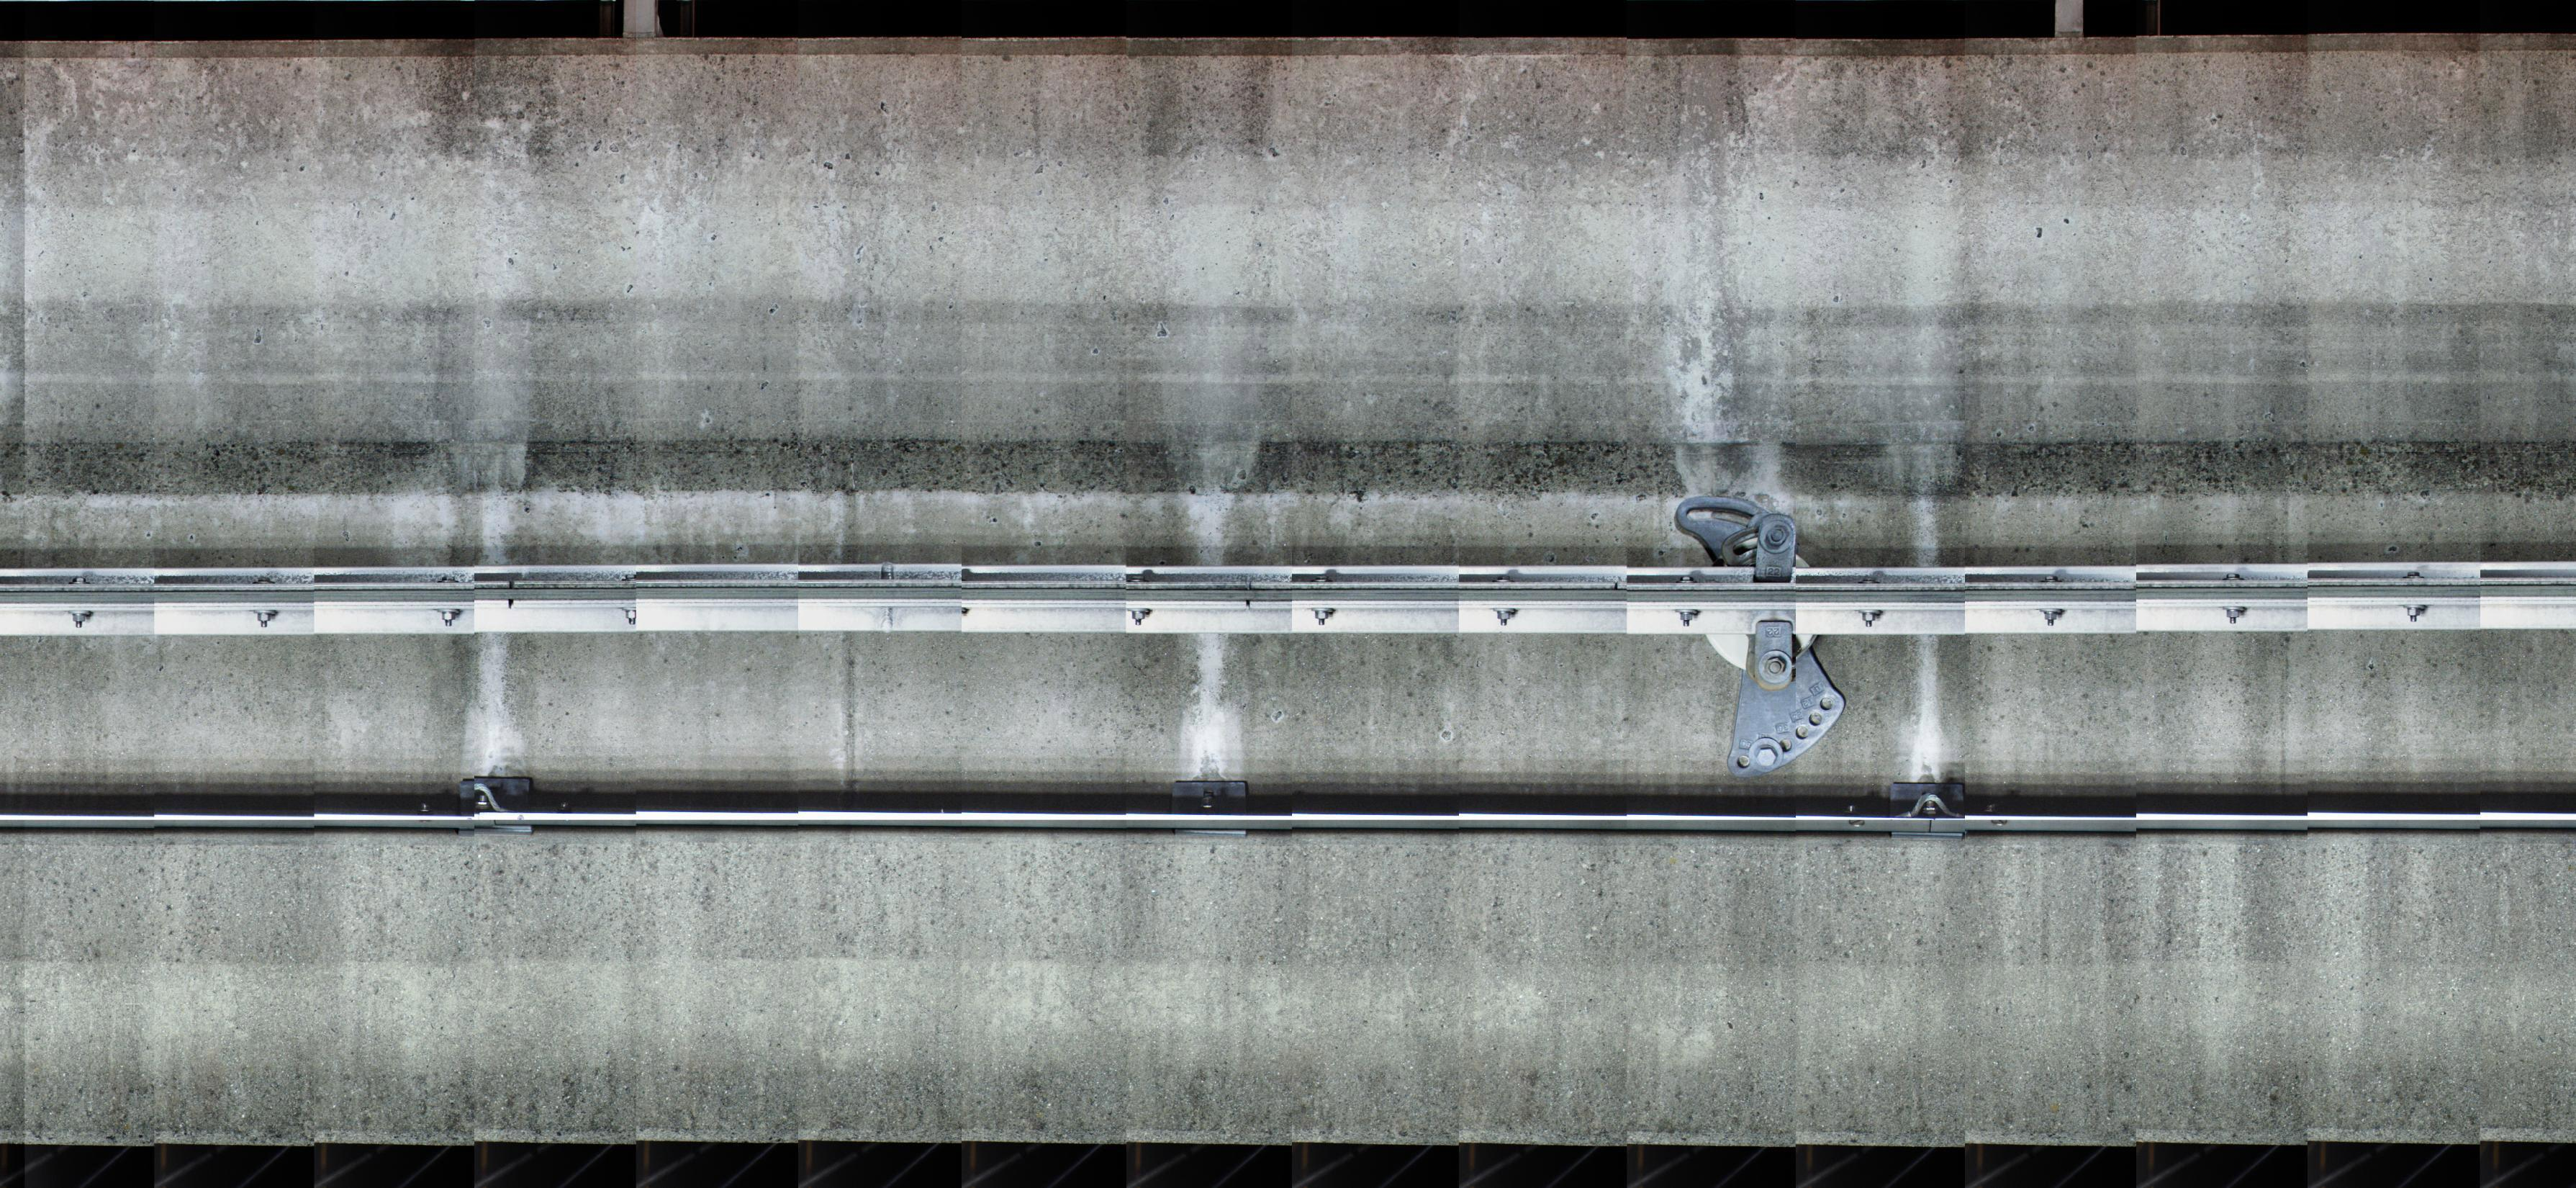concrete: (0, 629, 2569, 1142), (2, 41, 2564, 550)
